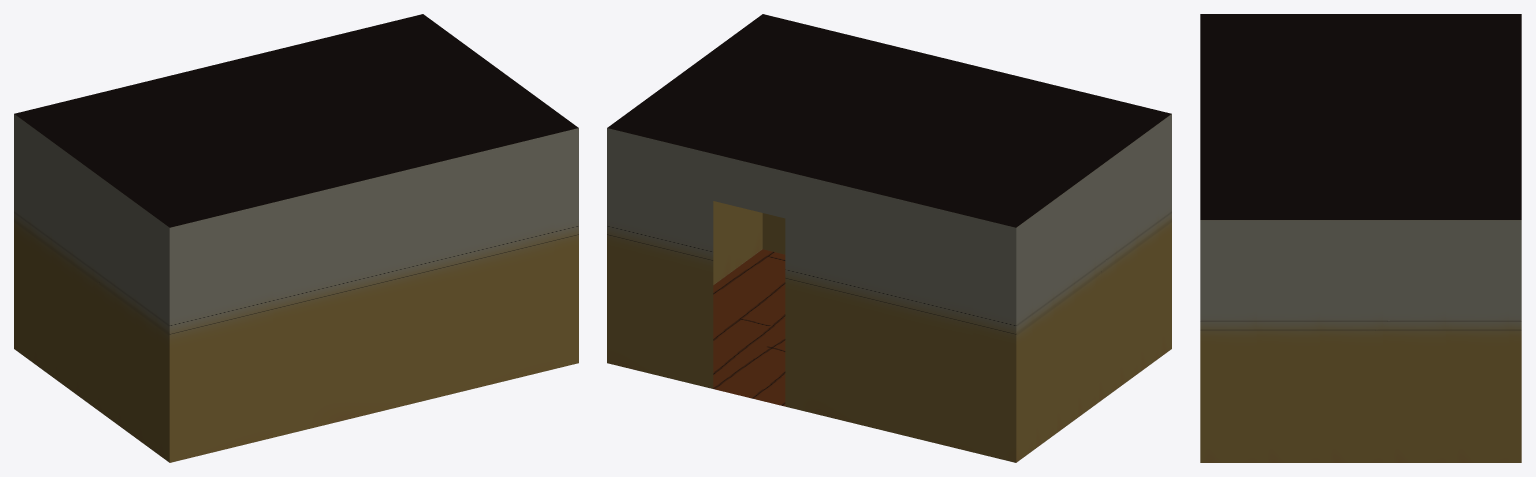
Rendered from kind_raum.obj.
3 views of the same model, side by side, from view 1: azimuth 30°, elevation 25°; view 2: azimuth 150°, elevation 25°; view 3: azimuth 270°, elevation 25° (orthographic). The views are drawn at different scales.
Parts seen in each view (by area): view 1: Cube_Cube_wallpaper, Cube_Cube_ceiling; view 2: Cube_Cube_wallpaper, Cube_Cube_ceiling, Cube_Cube_floor; view 3: Cube_Cube_wallpaper, Cube_Cube_ceiling.
Boxes of the visible parts, x1=… form: Cube_Cube_wallpaper: x1=14, y1=114, x2=578, y2=462; Cube_Cube_ceiling: x1=14, y1=14, x2=578, y2=227; Cube_Cube_wallpaper: x1=607, y1=114, x2=1171, y2=462; Cube_Cube_ceiling: x1=607, y1=14, x2=1171, y2=227; Cube_Cube_floor: x1=713, y1=249, x2=785, y2=406; Cube_Cube_wallpaper: x1=1200, y1=220, x2=1521, y2=462; Cube_Cube_ceiling: x1=1200, y1=14, x2=1521, y2=219.
Bounding box in the file's own units: 4.55 × 2.5 × 3.
3 materials, 2 textured.
